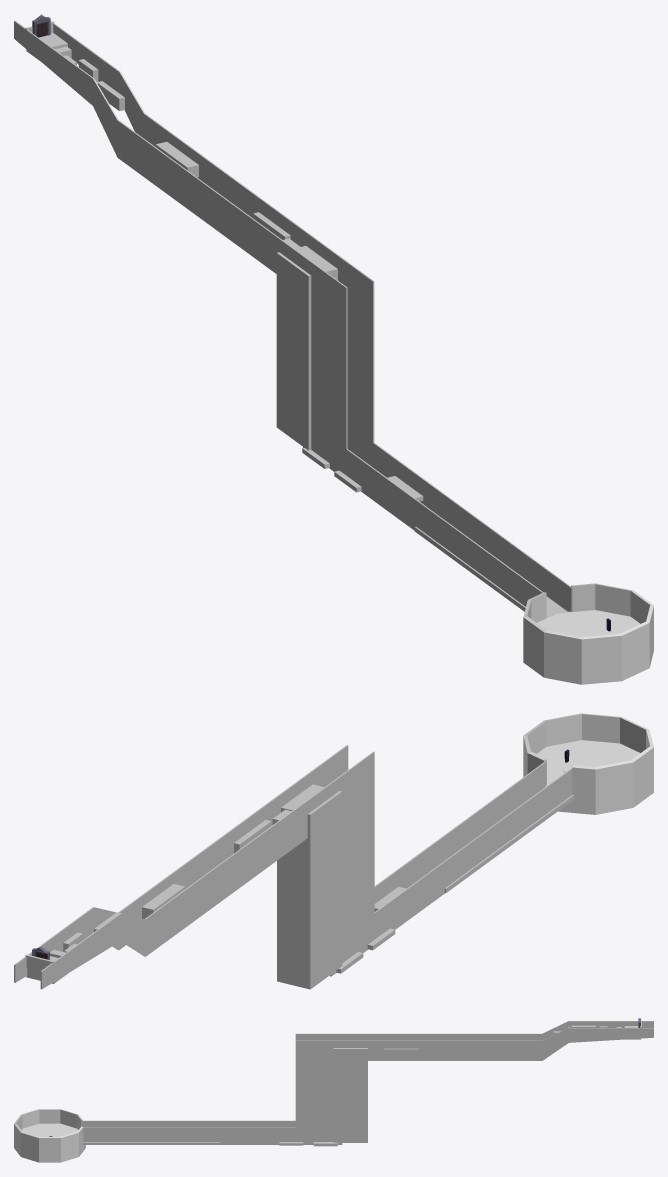
File: stage3 .fbx
The picture shows the model from 3 angles, top to bottom: view 1: azimuth 30°, elevation 25°; view 2: azimuth 150°, elevation 25°; view 3: azimuth 270°, elevation 25°; orthographic projection. The views are drawn at different scales.
Parts seen in each view (by area): view 1: Cube.032, Cube.033, Cylinder, Cube.019, Cube.031; view 2: Cube.032, Cube.019, Cube.033, Cylinder, Cube.031, Cube.016, Cylinder.002; view 3: Cube.033, Cube.032, Cube.019, Cylinder, Cube.031, Cube.021.
Part boxes in pixels (bbox=[...]): Cube.032: bbox=[14, 20, 543, 606]; Cube.033: bbox=[40, 14, 571, 611]; Cylinder: bbox=[523, 583, 653, 684]; Cube.019: bbox=[276, 246, 337, 450]; Cube.031: bbox=[414, 527, 567, 616]; Cube.032: bbox=[40, 751, 572, 989]; Cube.019: bbox=[277, 784, 342, 989]; Cube.033: bbox=[14, 745, 546, 982]; Cylinder: bbox=[523, 713, 653, 814]; Cube.031: bbox=[444, 795, 573, 892]; Cube.016: bbox=[142, 884, 185, 918]; Cylinder.002: bbox=[561, 754, 614, 772]; Cube.033: bbox=[83, 1028, 653, 1144]; Cube.032: bbox=[82, 1021, 653, 1127]; Cube.019: bbox=[333, 1048, 367, 1142]; Cylinder: bbox=[14, 1109, 85, 1162]; Cube.031: bbox=[82, 1142, 220, 1144]; Cube.021: bbox=[384, 1048, 418, 1055].
Bounding box in the file's own units: 5860 × 12225 × 54818.
